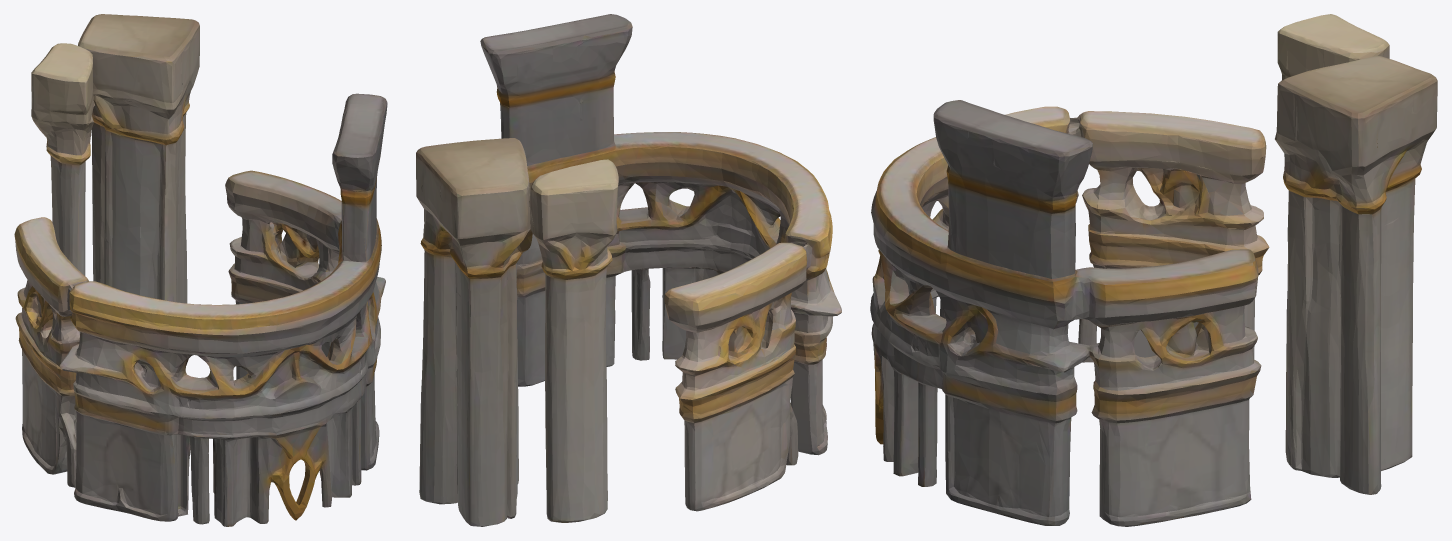
File: pillars_clouds1.glb
3 views of the same model, side by side, from view 1: azimuth 30°, elevation 25°; view 2: azimuth 150°, elevation 25°; view 3: azimuth 270°, elevation 25° (orthographic). The views are drawn at different scales.
Parts seen in each view (by area): view 1: world; view 2: world; view 3: world.
Boxes of the visible parts, bbox=[...] form: world: bbox=[14, 14, 387, 526]; world: bbox=[416, 14, 841, 526]; world: bbox=[870, 14, 1437, 526].
Size of the model in its own units: 0.8008 by 0.7582 by 0.9989.
Materials: 1 (1 with a texture image).
